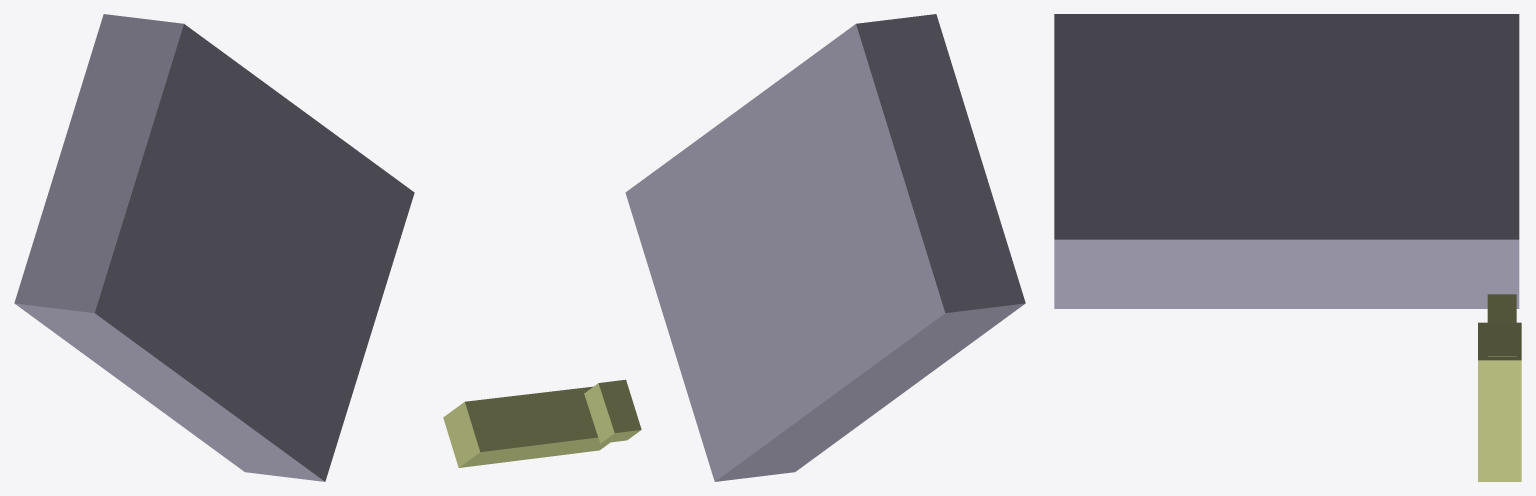
3 views of the same model, side by side, from view 1: azimuth 30°, elevation 25°; view 2: azimuth 150°, elevation 25°; view 3: azimuth 270°, elevation 25° (orthographic).
Visible parts, largest first — view 1: 0_3_1_3_3_2_3_0; view 2: 0_3_1_3_3_2_3_0; view 3: 0_3_1_3_3_2_3_0.
Part boxes in pixels (bbox=[...]): 0_3_1_3_3_2_3_0: bbox=[14, 14, 414, 481]; 0_3_1_3_3_2_3_0: bbox=[443, 14, 1025, 481]; 0_3_1_3_3_2_3_0: bbox=[1054, 14, 1521, 481].
Size of the model in its own units: 84.33 by 79.1 by 96.5.
